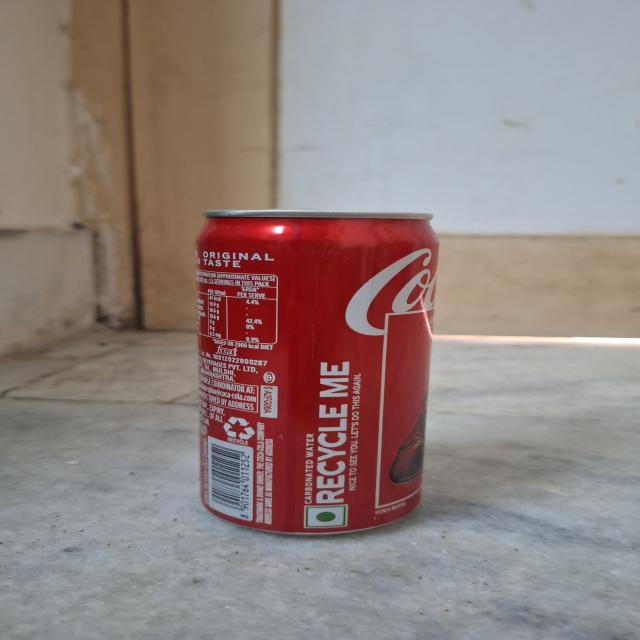Coca Cola: (193, 207, 452, 530)
